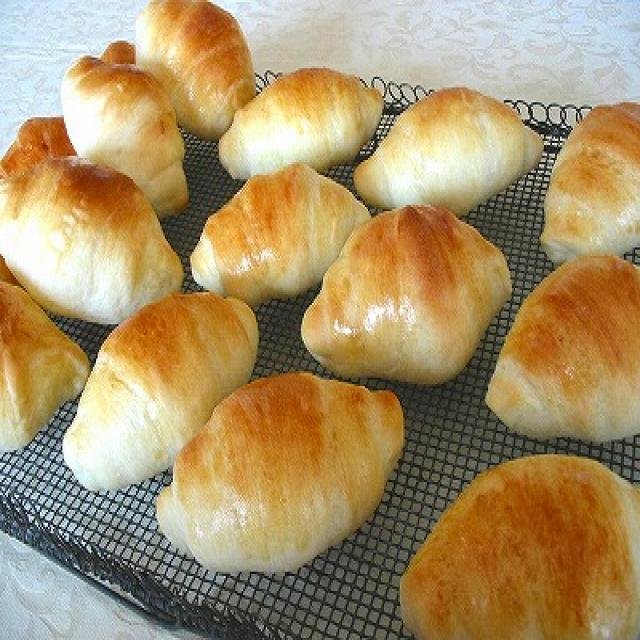面包点心: (0, 55, 640, 582)
